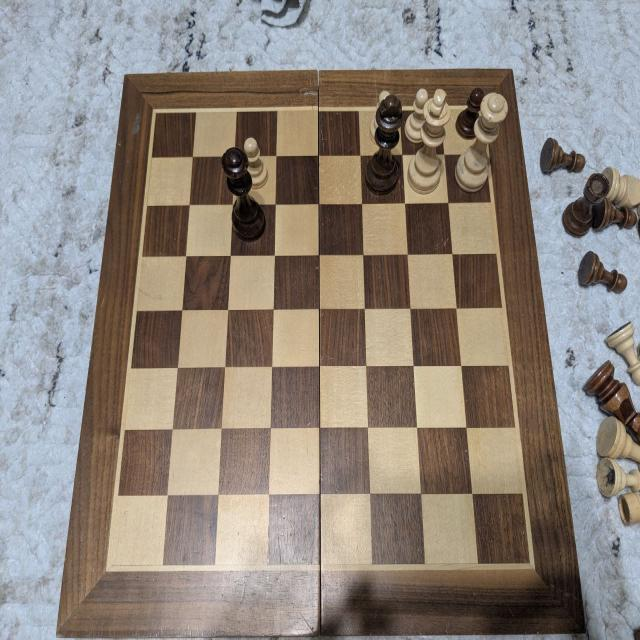black_king: (364, 94, 404, 198)
black_pawn: (456, 86, 484, 140)
black_queen: (220, 146, 266, 243)
white_king: (407, 89, 451, 196)
white_pawn: (405, 88, 430, 144), (243, 136, 268, 190), (370, 90, 393, 144)
white_queen: (455, 92, 509, 194)
